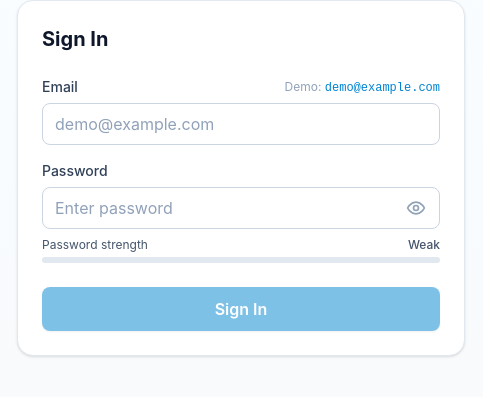
Test: LoginDemo › shows error message and marks email invalid on blur when email format is invalid
The width and height of the screenshot is (483, 397).
Type invalid email format
In the field labelled "Email": [241, 124] box [42,103,440,145], type "antonio.hh6"
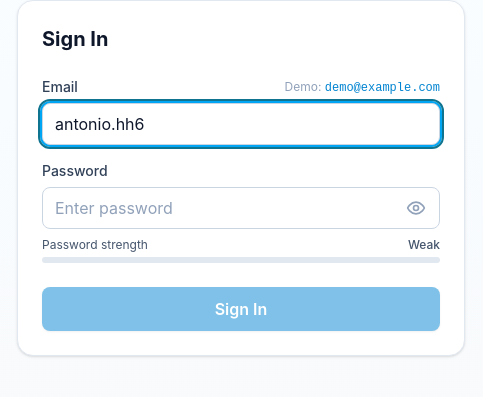
Click outside or tab away to trigger onBlur
Press Tab
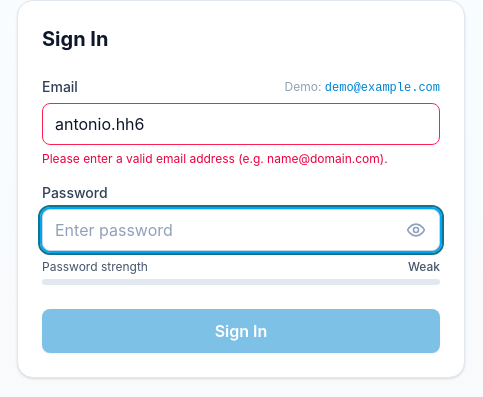
Expected: the text "Please enter a valid email address (e.g. name@domain.com)." is shown, [42,151,440,167]
